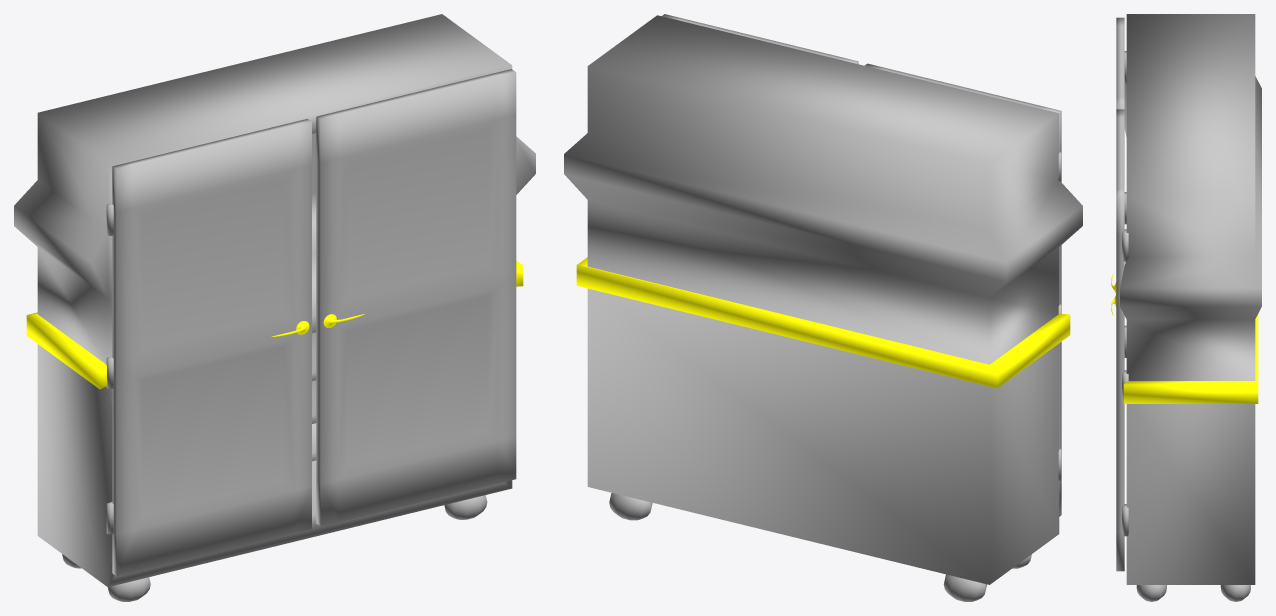
The model's file is Furniture.fbx.
3 views of the same model, side by side, from view 1: azimuth 30°, elevation 25°; view 2: azimuth 150°, elevation 25°; view 3: azimuth 270°, elevation 25° (orthographic). The views are drawn at different scales.
Parts seen in each view (by area): view 1: DoorRight, DoorLeft, CupBoard; view 2: CupBoard, DoorRight, DoorLeft; view 3: CupBoard, DoorLeft, DoorRight.
Part boxes in pixels (box(x1,y1,x2,y2)): DoorRight: box(106, 119, 311, 576); DoorLeft: box(316, 69, 516, 526); CupBoard: box(14, 14, 535, 601); CupBoard: box(564, 15, 1082, 601); DoorRight: box(864, 63, 1061, 516); DoorLeft: box(662, 14, 858, 64); CupBoard: box(1120, 14, 1261, 601); DoorLeft: box(1111, 109, 1128, 571); DoorRight: box(1111, 17, 1126, 357).
Bounding box in the file's own units: 2.2 × 2.15 × 0.7016.
